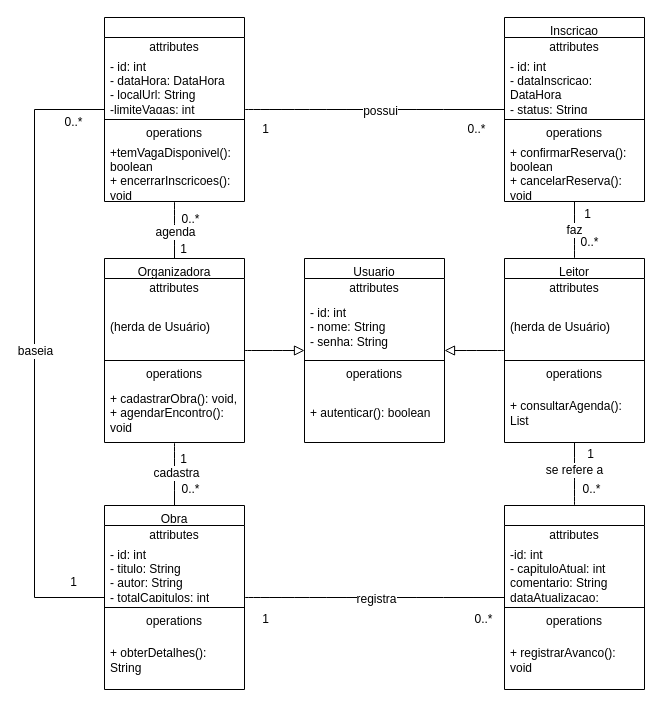
The diagram is 662 pixels wide and 707 high, and some of its shapes have lost their labels. The box of each missing label's shape, as (x1, y1, x2, y2) in pixels:
Encontro: (104, 16, 244, 202)
Progresso_Leitura: (504, 504, 644, 690)
